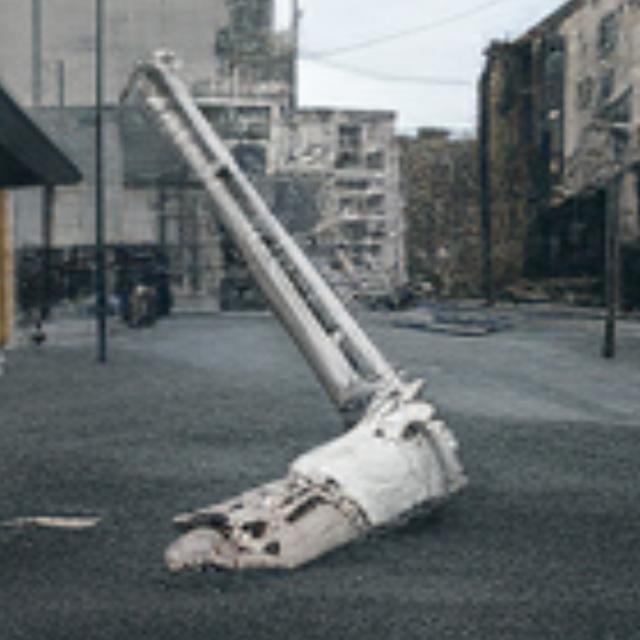Inclined Pole: (132, 49, 471, 575)
